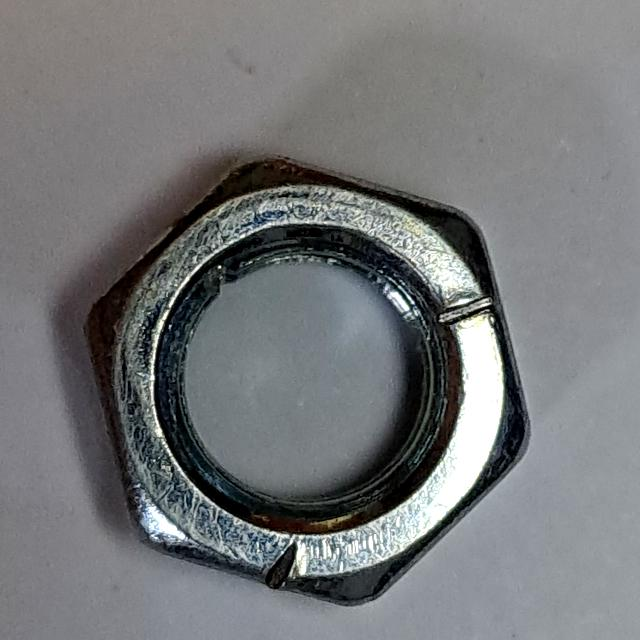Scratches: (70, 141, 545, 626)
